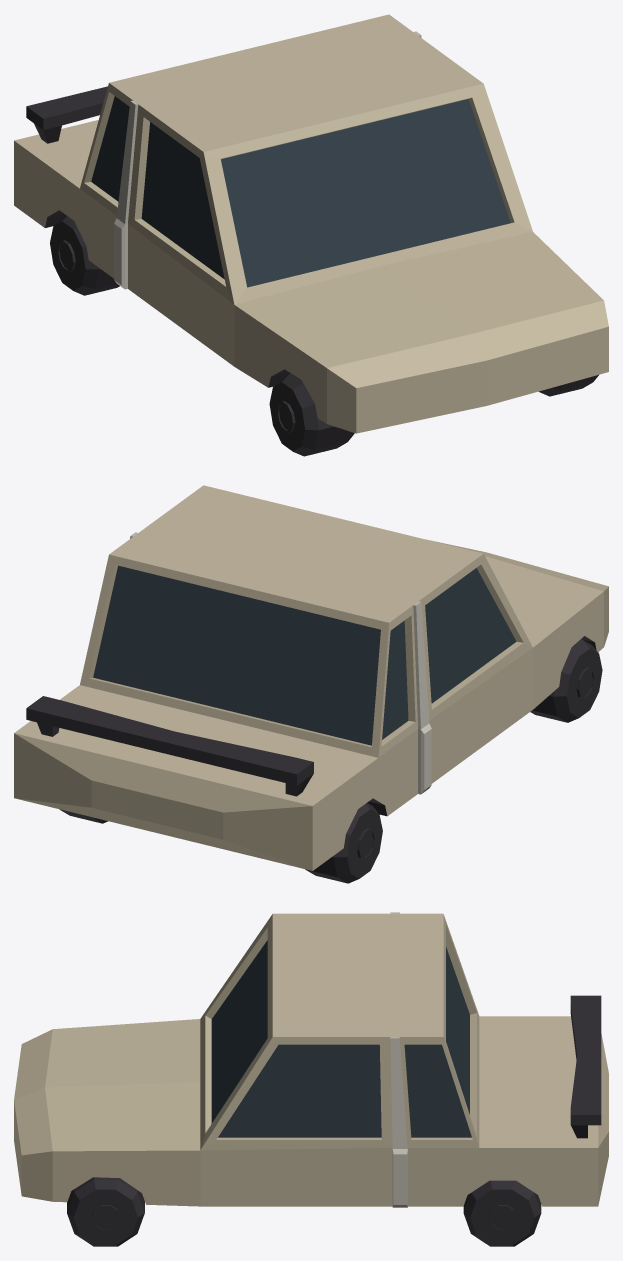
File: car_b.glb
3 views of the same model, one above another, from view 1: azimuth 30°, elevation 25°; view 2: azimuth 150°, elevation 25°; view 3: azimuth 270°, elevation 25° (orthographic). The views are drawn at different scales.
Parts seen in each view (by area): view 1: FrontWheels.000; view 2: FrontWheels.000; view 3: FrontWheels.000.
Boxes of the visible parts, x1,y1,x2,y2 form: FrontWheels.000: (14,14,608,456); FrontWheels.000: (14,485,608,883); FrontWheels.000: (14,912,608,1246).
Size of the model in its own units: 2.19 by 1.57 by 4.03.
